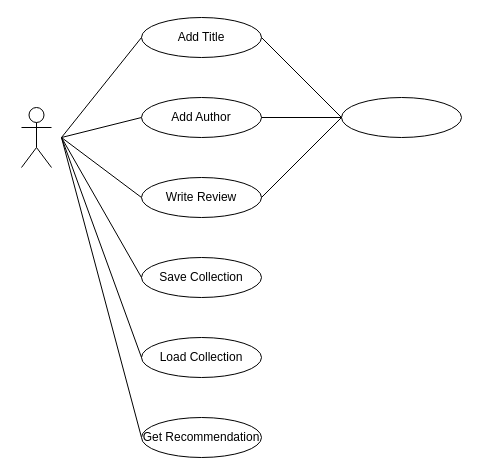
Image size: 479x475. Some labels were removed from this diagram. Each missing label, with the centre of its shape:
"Add Book" belongs at point 401,117.
"Reader" belongs at point 36,137.
